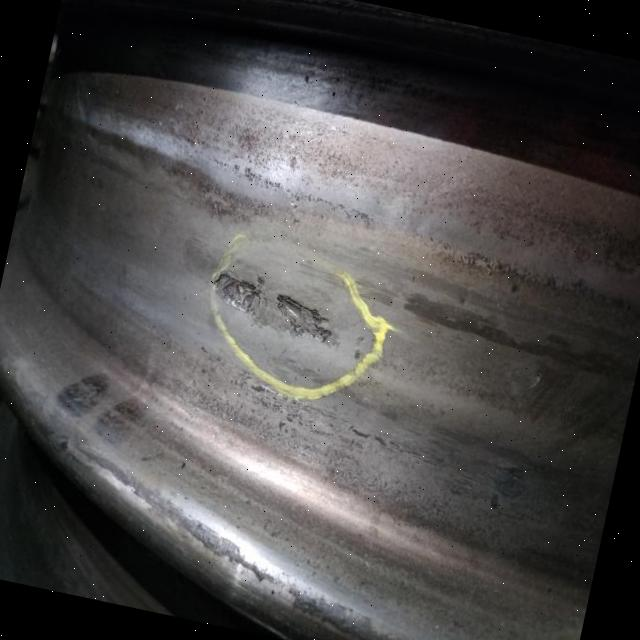Peeling: (206, 265, 343, 346)
